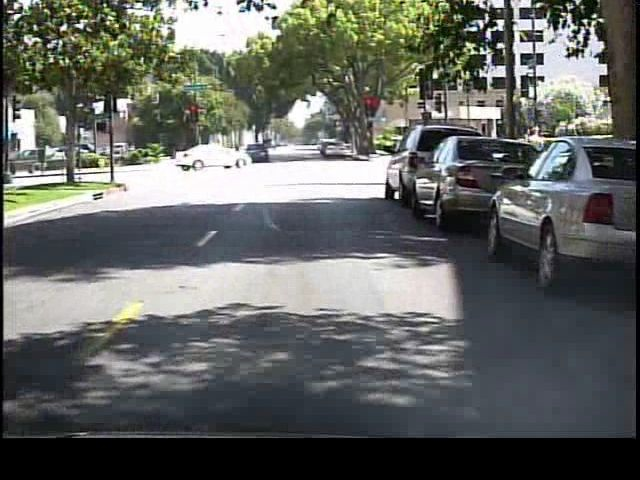person: (253, 141, 270, 170)
